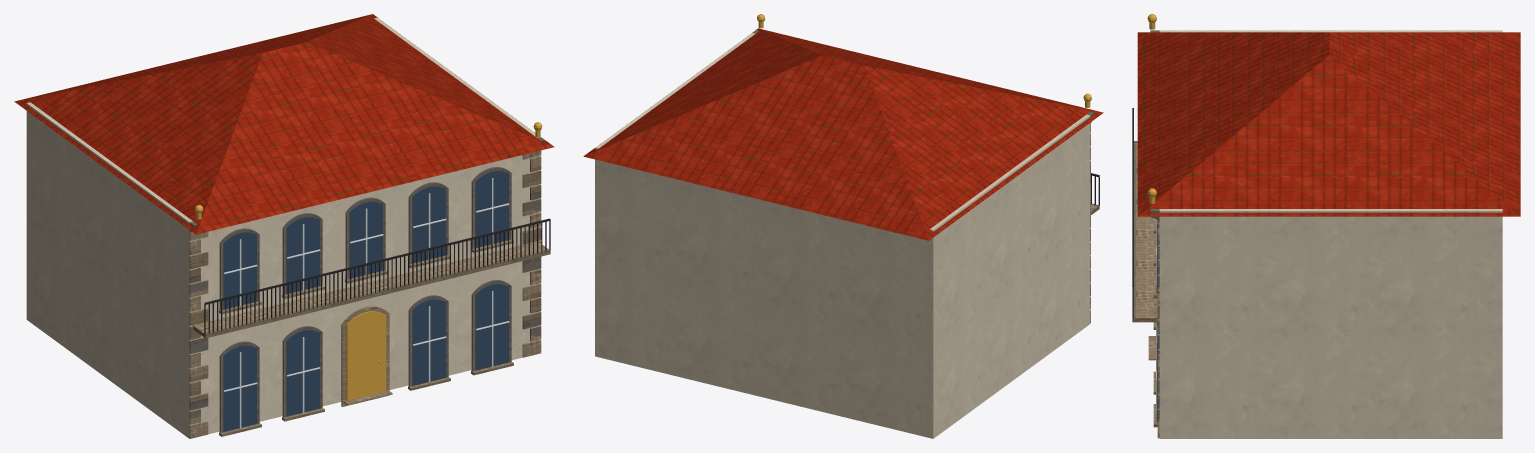
Rendered from sobrado_w12_1.gltf.
3 renders of one model, left to right at view 1: azimuth 30°, elevation 25°; view 2: azimuth 150°, elevation 25°; view 3: azimuth 270°, elevation 25°, orthographic. The views are drawn at different scales.
Parts seen in each view (by area): view 1: sobrado_w12_1; view 2: sobrado_w12_1; view 3: sobrado_w12_1.
Part boxes in pixels (x1,y1,x2,y2): sobrado_w12_1: (14,14,554,438); sobrado_w12_1: (583,14,1103,438); sobrado_w12_1: (1132,14,1520,438).
Size of what is drawn, in the model's own units: 11.96 by 9.37 by 10.65.
Materials: 6 (3 with a texture image).
